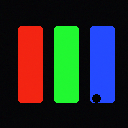0 point: (92, 94, 100, 102)
